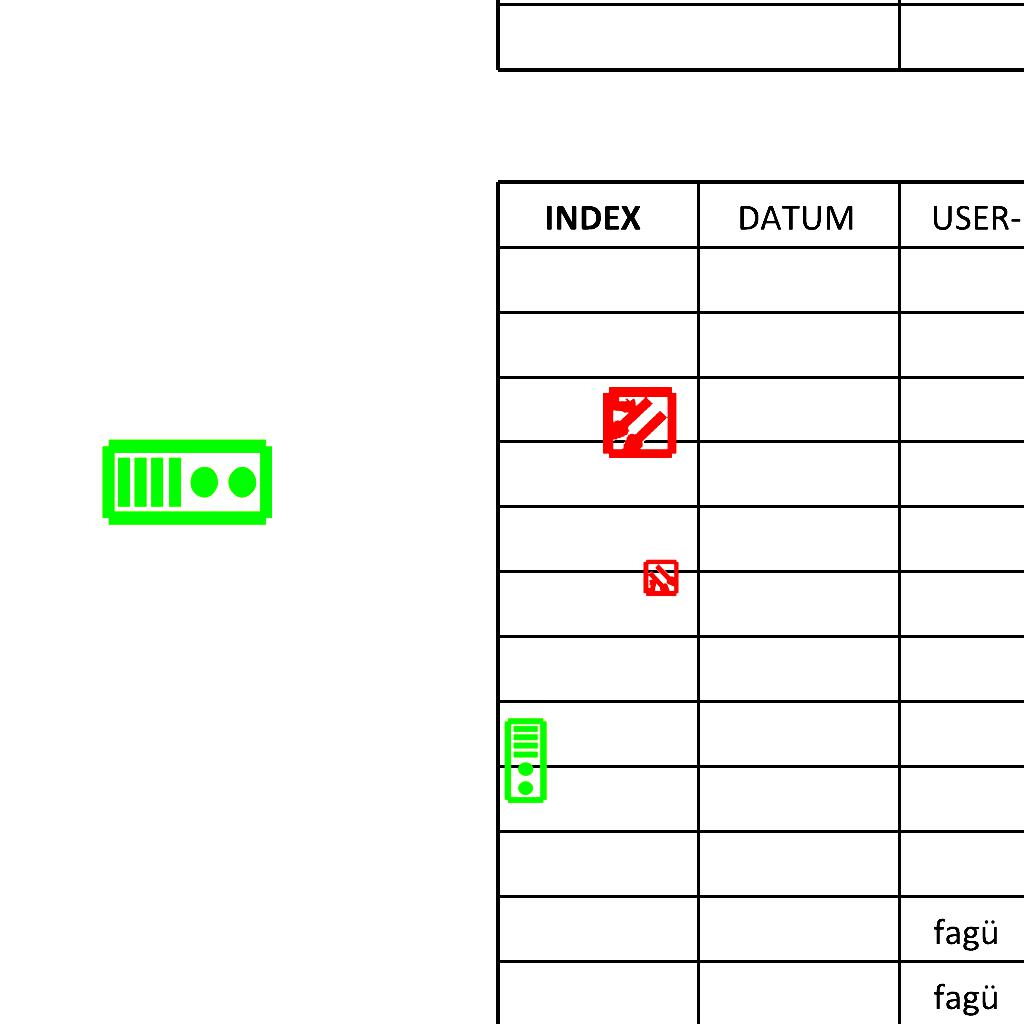Gegensprechanlage_mit_Video: (100, 433, 276, 528), (503, 717, 550, 805)
OT_Multisensormelder_(Kombination_RMO_WMD): (581, 366, 694, 479), (633, 551, 689, 607)
